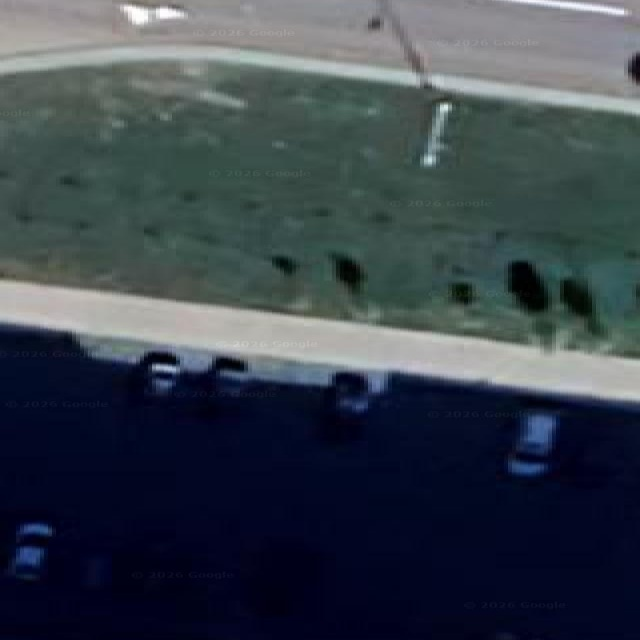car: (324, 371, 372, 437), (507, 411, 555, 476), (199, 355, 251, 408), (8, 522, 54, 580), (131, 352, 180, 399), (208, 355, 249, 395)
